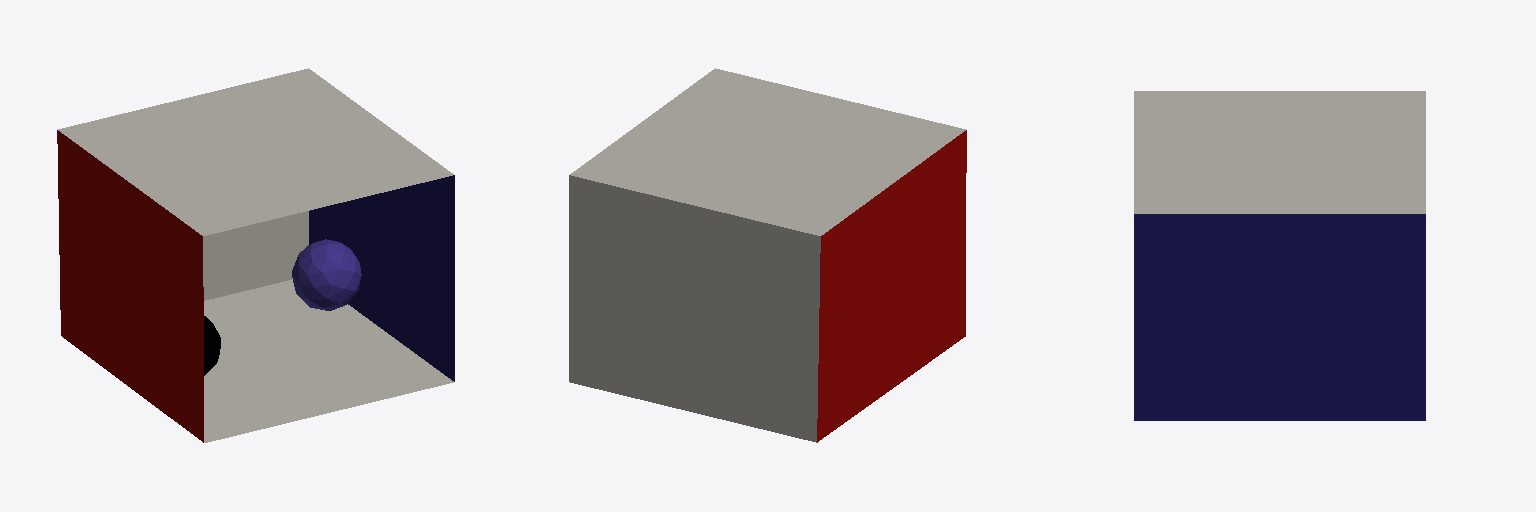
Rendered from CornellBox-Sphere-703.obj.
3 views of the same model, side by side, from view 1: azimuth 30°, elevation 25°; view 2: azimuth 150°, elevation 25°; view 3: azimuth 270°, elevation 25° (orthographic).
Visible parts, largest first — view 1: ceiling, leftWall, floor, rightWall, backWall, leftSphere, rightSphere; view 2: backWall, ceiling, leftWall; view 3: rightWall, ceiling.
Part boxes in pixels (bbox=[...]): ceiling: bbox=[58, 68, 453, 235]; leftWall: bbox=[57, 130, 203, 442]; floor: bbox=[204, 279, 453, 442]; rightWall: bbox=[309, 175, 454, 381]; backWall: bbox=[203, 211, 308, 300]; leftSphere: bbox=[292, 239, 361, 310]; rightSphere: bbox=[204, 316, 220, 375]; backWall: bbox=[569, 175, 820, 442]; ceiling: bbox=[570, 68, 965, 235]; leftWall: bbox=[817, 130, 966, 442]; rightWall: bbox=[1134, 214, 1425, 420]; ceiling: bbox=[1134, 91, 1425, 213].
Size of the model in its own units: 2.02 by 1.59 by 2.03.